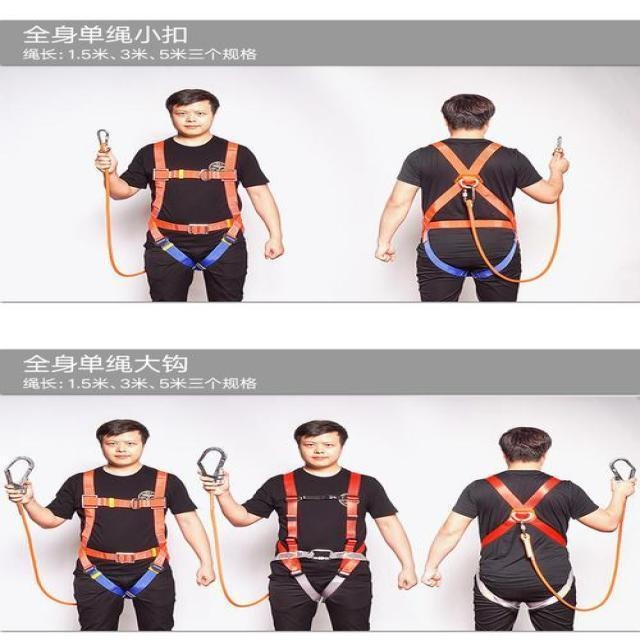Arnes_seguridad: (414, 133, 528, 279), (470, 468, 584, 612), (142, 132, 252, 272), (72, 461, 177, 604), (270, 466, 379, 603)
